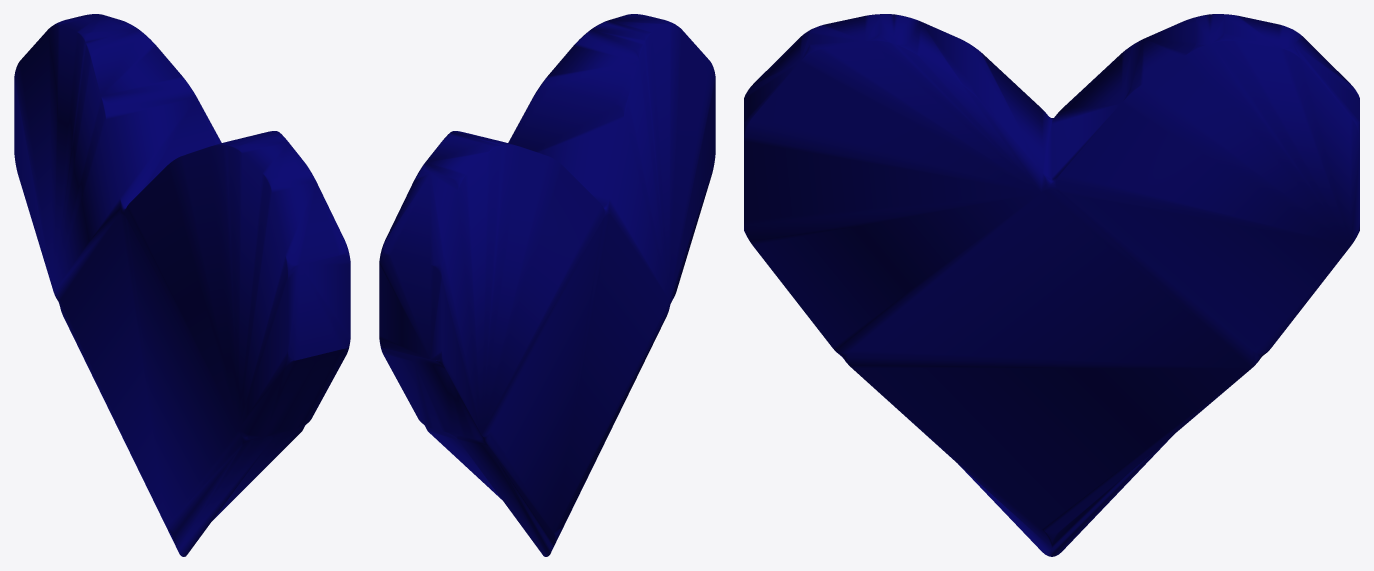
The model's file is Heart.fbx.
3 views of the same model, side by side, from view 1: azimuth 30°, elevation 25°; view 2: azimuth 150°, elevation 25°; view 3: azimuth 270°, elevation 25° (orthographic). The views are drawn at different scales.
Parts seen in each view (by area): view 1: Куб; view 2: Куб; view 3: Куб.
Part boxes in pixels (box(x1,y1,x2,y2)): Куб: box(14, 14, 350, 556); Куб: box(379, 14, 715, 556); Куб: box(744, 14, 1359, 556).
Bounding box in the file's own units: 51.7 × 197 × 207.
